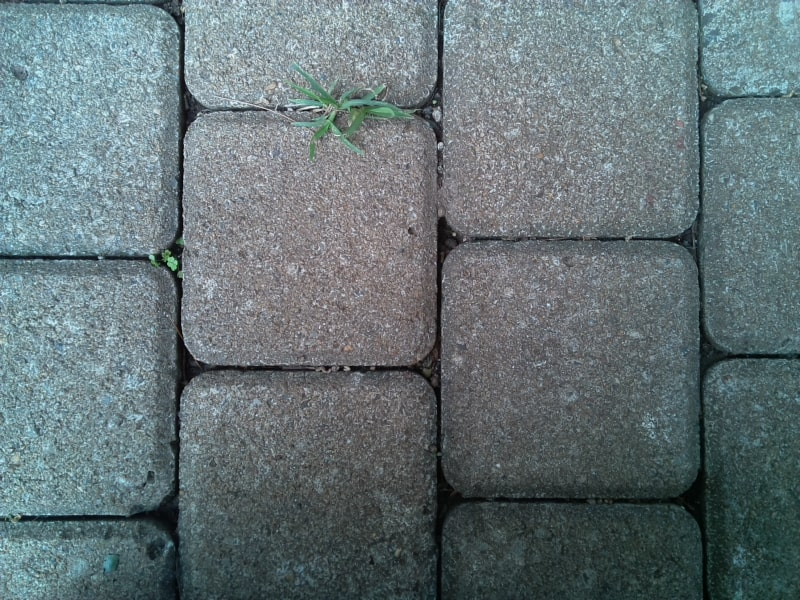Weed: (286, 66, 409, 149), (158, 243, 191, 275)
